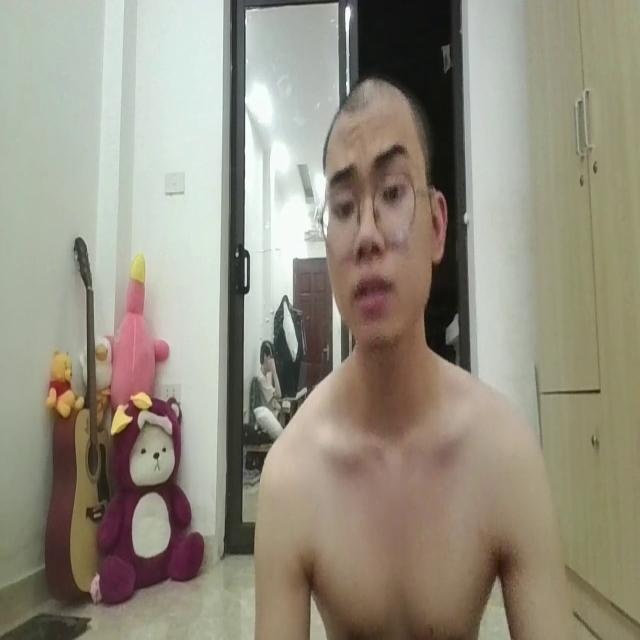extra_person: (248, 68, 574, 640)
